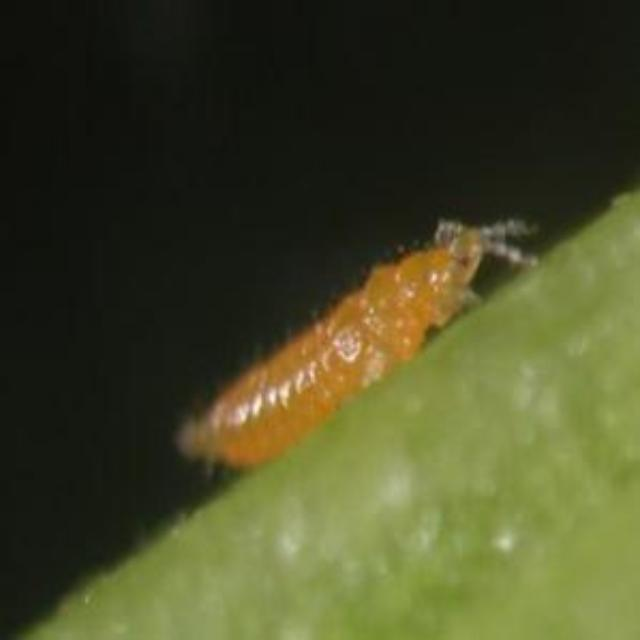melon thrips: (114, 176, 556, 536)
